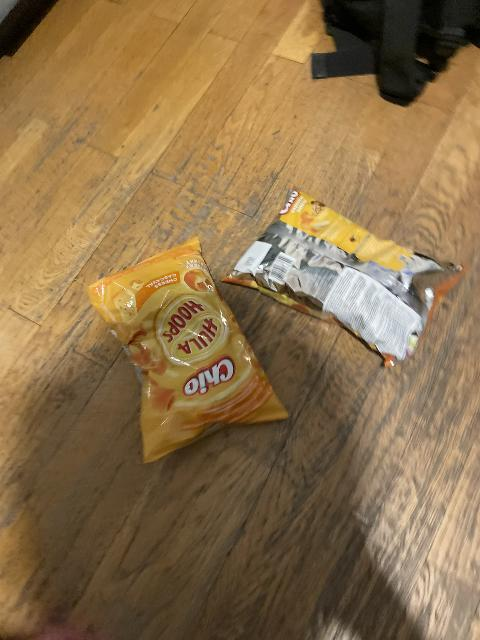Chio Cascaval 125g: (225, 192, 462, 371)
Chio Hula Hoops Cheese 70g: (86, 239, 292, 456)
